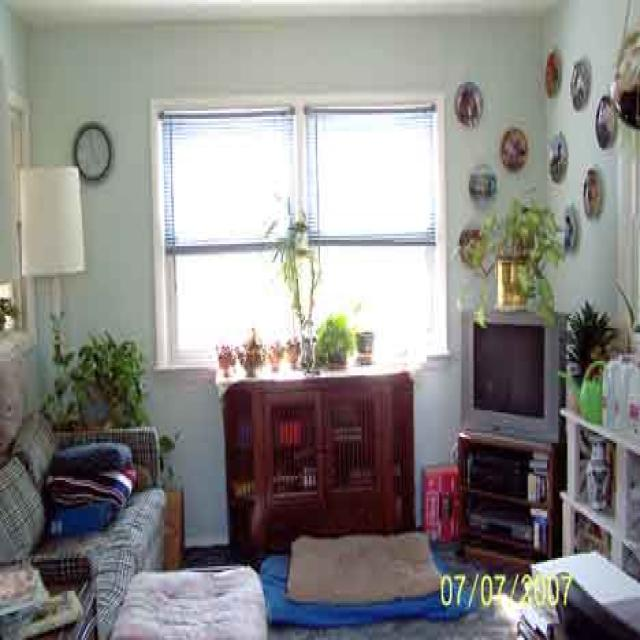pottedplant: (451, 194, 566, 329), (43, 327, 153, 426), (266, 196, 324, 368), (314, 313, 361, 370)
sofa: (1, 413, 168, 639)
tvmonitor: (459, 307, 569, 446)
